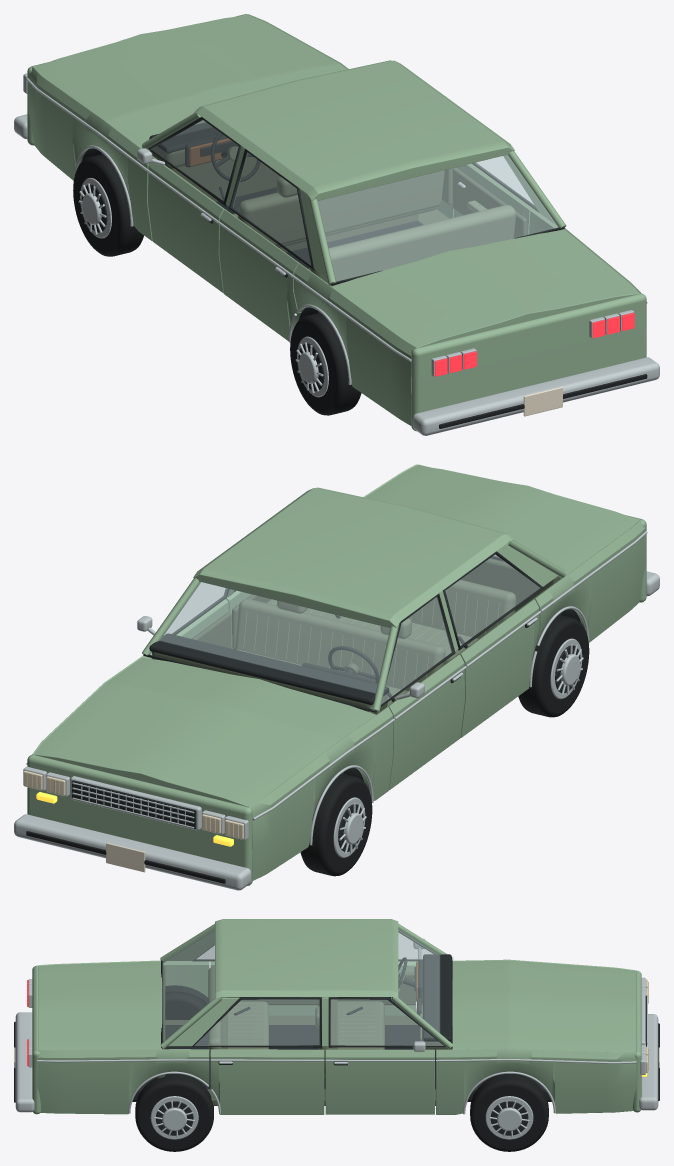
File: Caprice.fbx
3 views of the same model, one above another, from view 1: azimuth 30°, elevation 25°; view 2: azimuth 150°, elevation 25°; view 3: azimuth 270°, elevation 25° (orthographic). The views are drawn at different scales.
Visible parts, largest first — view 1: Caprice; view 2: Caprice; view 3: Caprice.
Part boxes in pixels (x1,y1,x2,y2): Caprice: (14, 14, 659, 435); Caprice: (14, 464, 659, 890); Caprice: (14, 919, 659, 1151).
Size of the model in its own units: 243 by 163 by 624.
